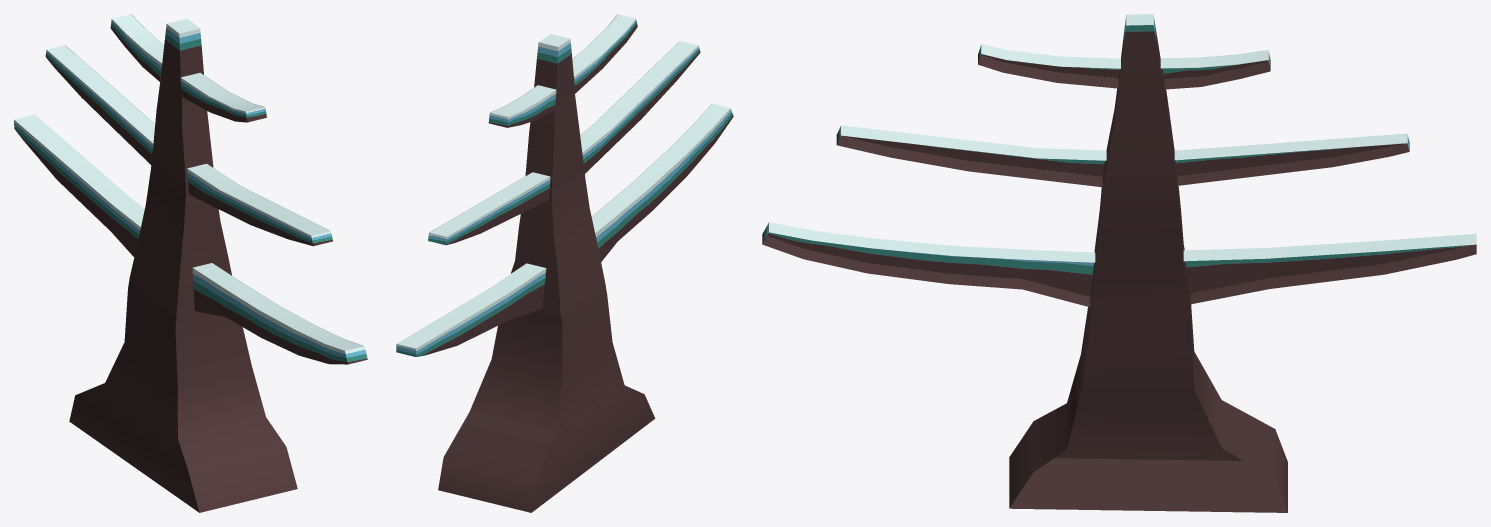
Rendered from snowTree_fbx.fbx.
The picture shows the model from 3 angles, left to right: view 1: azimuth 30°, elevation 25°; view 2: azimuth 150°, elevation 25°; view 3: azimuth 270°, elevation 25°; orthographic projection. The views are drawn at different scales.
Visible parts, largest first — view 1: Tree, polySurface12, polySurface2, polySurface10, polySurface4, polySurface7, polySurface6; view 2: Tree, polySurface12, polySurface2, polySurface10, polySurface4, polySurface7, polySurface6; view 3: Tree, polySurface12, polySurface2, polySurface10, polySurface4, polySurface7, polySurface6.
Boxes of the visible parts, left/top/right/bottom form: Tree: left=69, top=18, right=297, bottom=512; polySurface12: left=192, top=263, right=367, bottom=364; polySurface2: left=14, top=114, right=144, bottom=256; polySurface10: left=187, top=163, right=332, bottom=246; polySurface4: left=45, top=45, right=155, bottom=164; polySurface7: left=180, top=72, right=266, bottom=122; polySurface6: left=110, top=14, right=164, bottom=81; Tree: left=438, top=34, right=655, bottom=512; polySurface12: left=591, top=103, right=733, bottom=261; polySurface2: left=396, top=263, right=546, bottom=356; polySurface10: left=580, top=41, right=700, bottom=173; polySurface4: left=428, top=172, right=550, bottom=245; polySurface7: left=572, top=14, right=637, bottom=93; polySurface6: left=488, top=85, right=556, bottom=127; Tree: left=1009, top=14, right=1287, bottom=512; polySurface12: left=762, top=222, right=1095, bottom=307; polySurface2: left=1183, top=233, right=1476, bottom=304; polySurface10: left=836, top=125, right=1106, bottom=187; polySurface4: left=1174, top=133, right=1409, bottom=185; polySurface7: left=978, top=44, right=1120, bottom=88; polySurface6: left=1160, top=50, right=1270, bottom=89.
Bounding box in the file's own units: 118 × 500 × 695.
